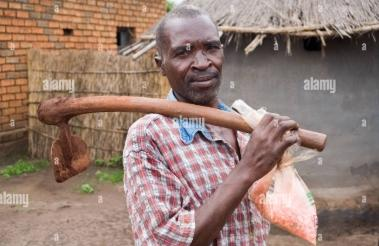HOUE: (33, 92, 339, 186)
